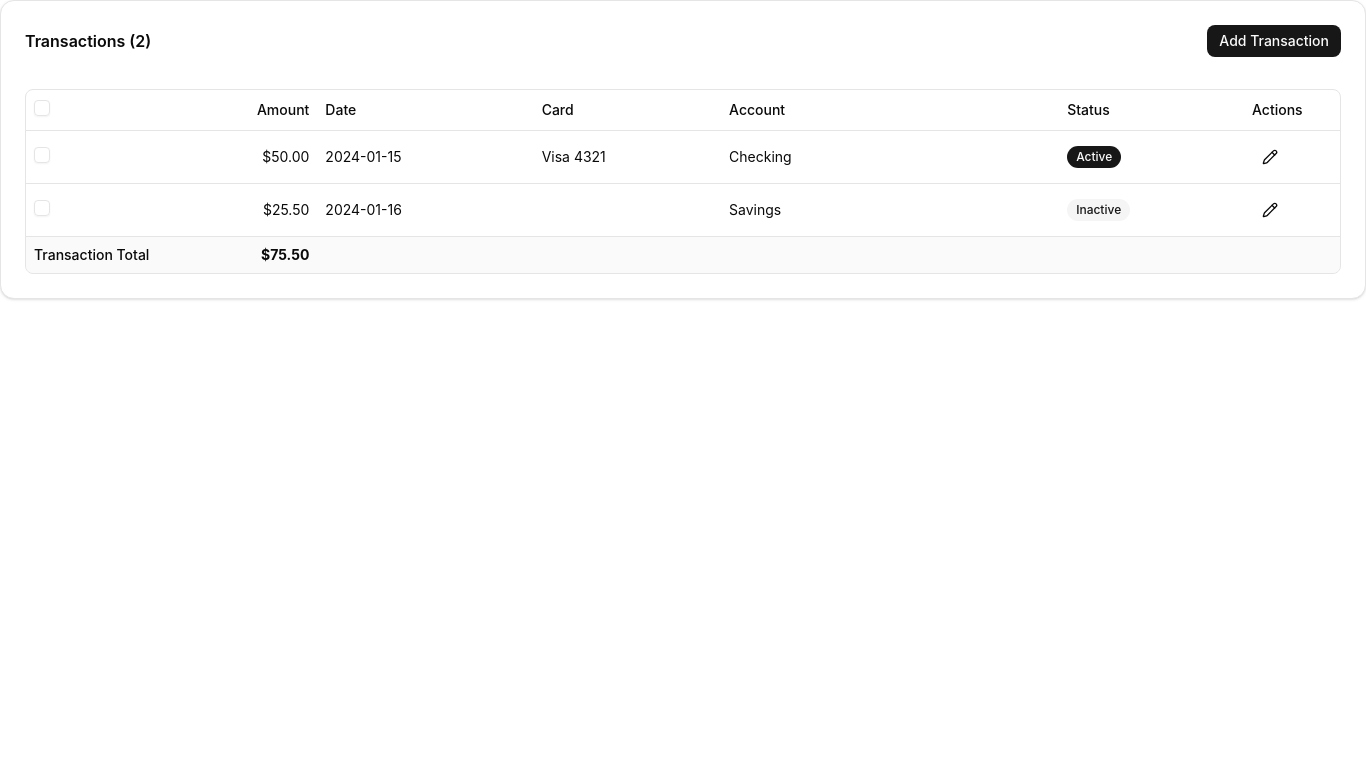
ReceiptTransactionsCard › pre-fills the date field with receiptDate in the create dialog
Step 1. Click the button "Add Transaction" → [1274, 41], box [1207, 25, 1341, 57]
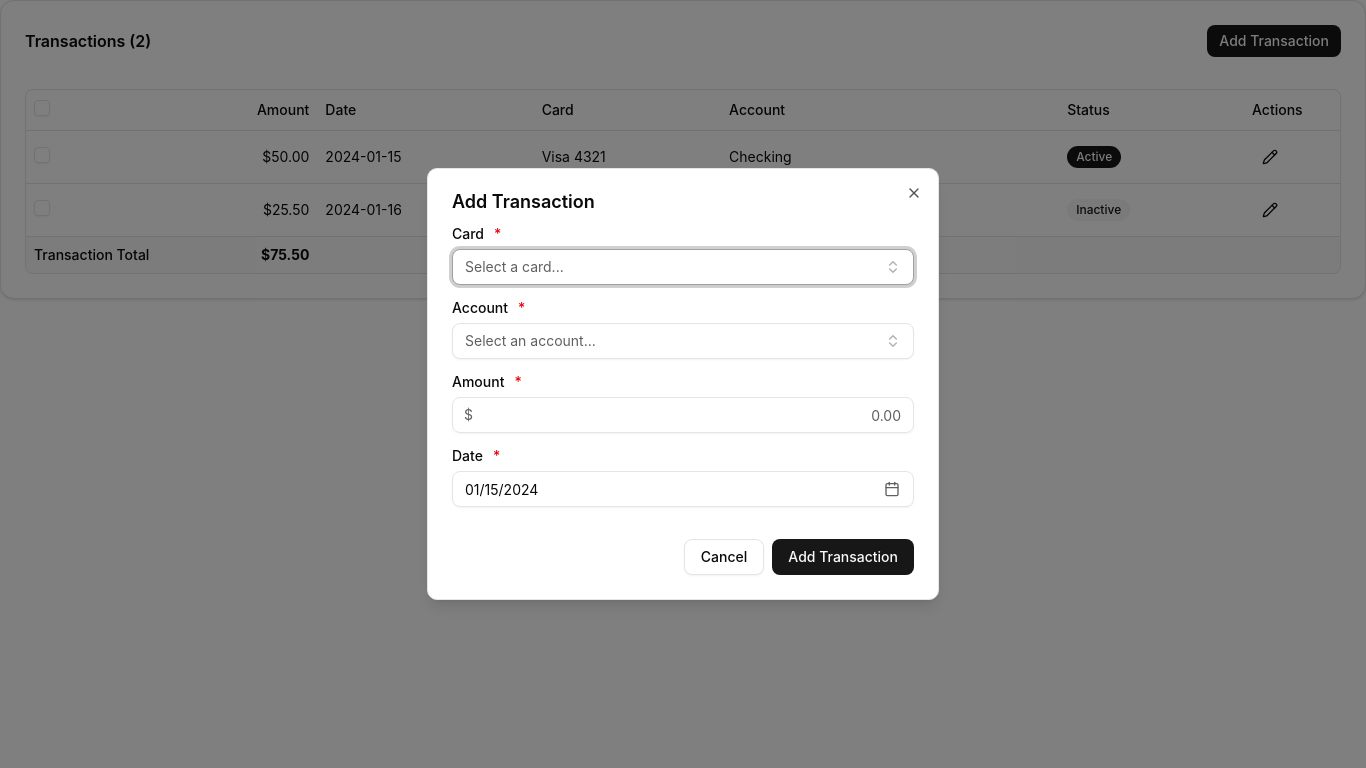
Result: the field with placeholder "MM/DD/YYYY" holds "01/15/2024" at [452, 471, 914, 507]
